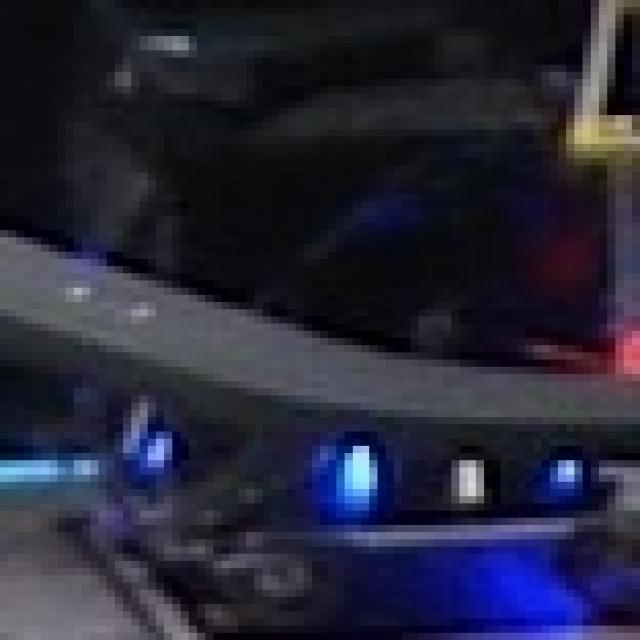B1: (300, 421, 578, 528), (62, 378, 209, 486)
